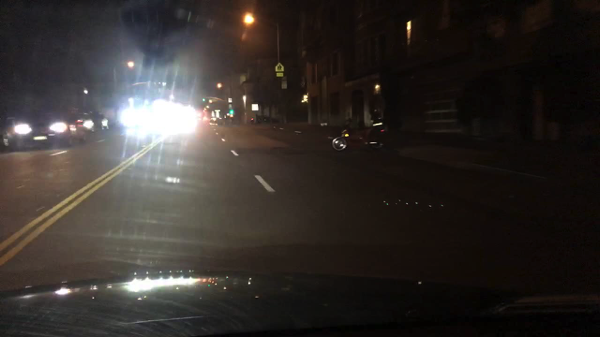car: (1, 111, 68, 151), (70, 108, 109, 145), (147, 107, 179, 127), (120, 110, 146, 129), (180, 107, 198, 129), (198, 110, 209, 124)
motor: (330, 120, 390, 153)
traffic light: (227, 109, 235, 116)
traffic sign: (275, 63, 285, 77)
